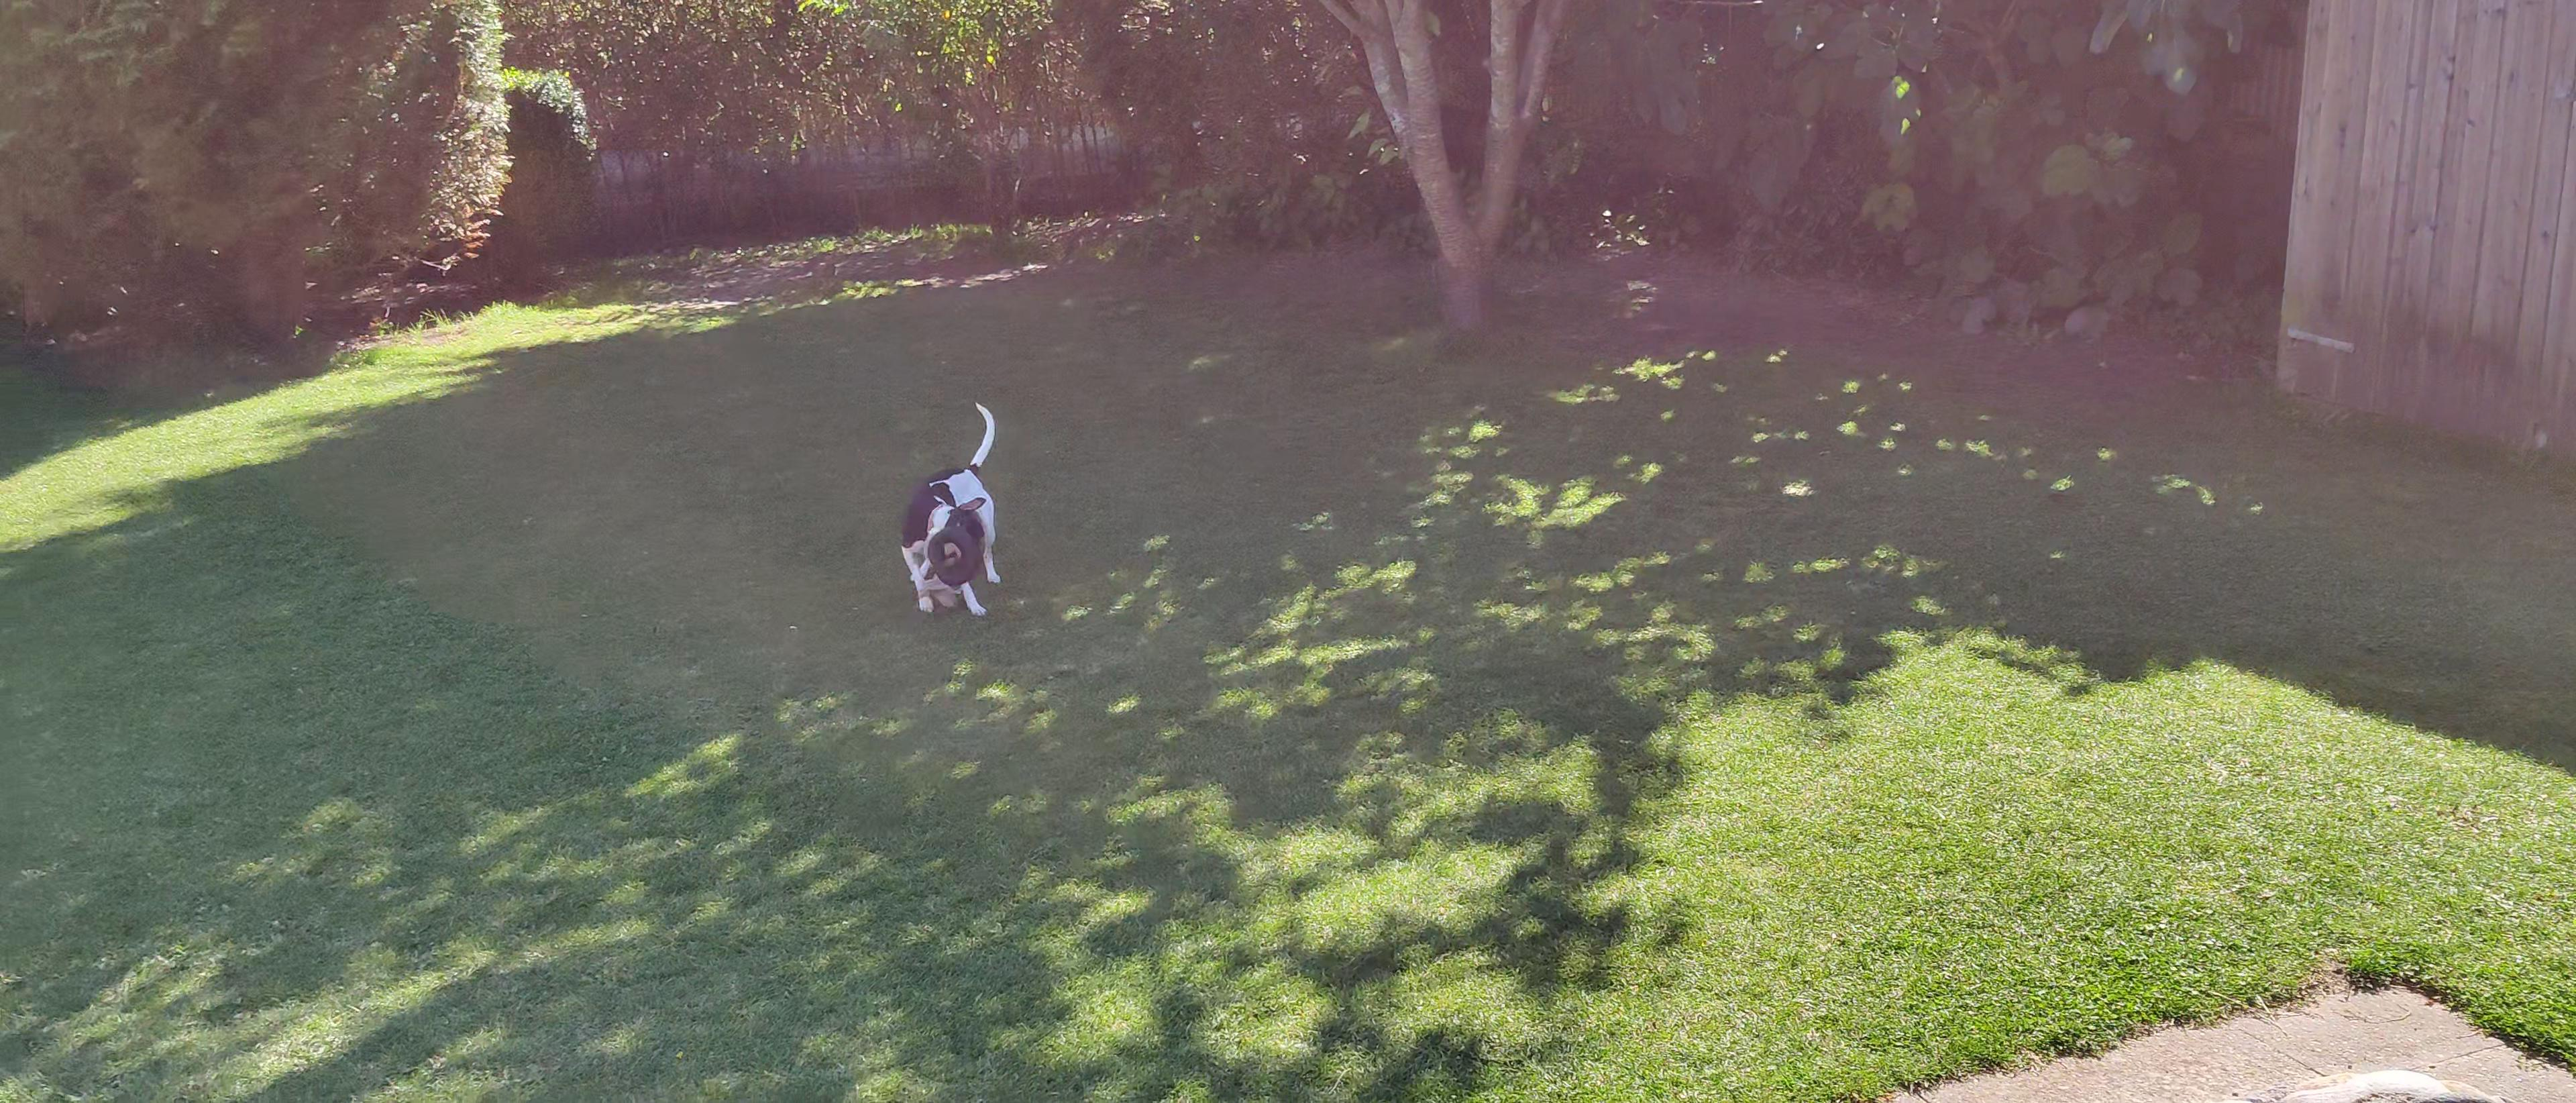Dog: (879, 393, 1020, 623)
